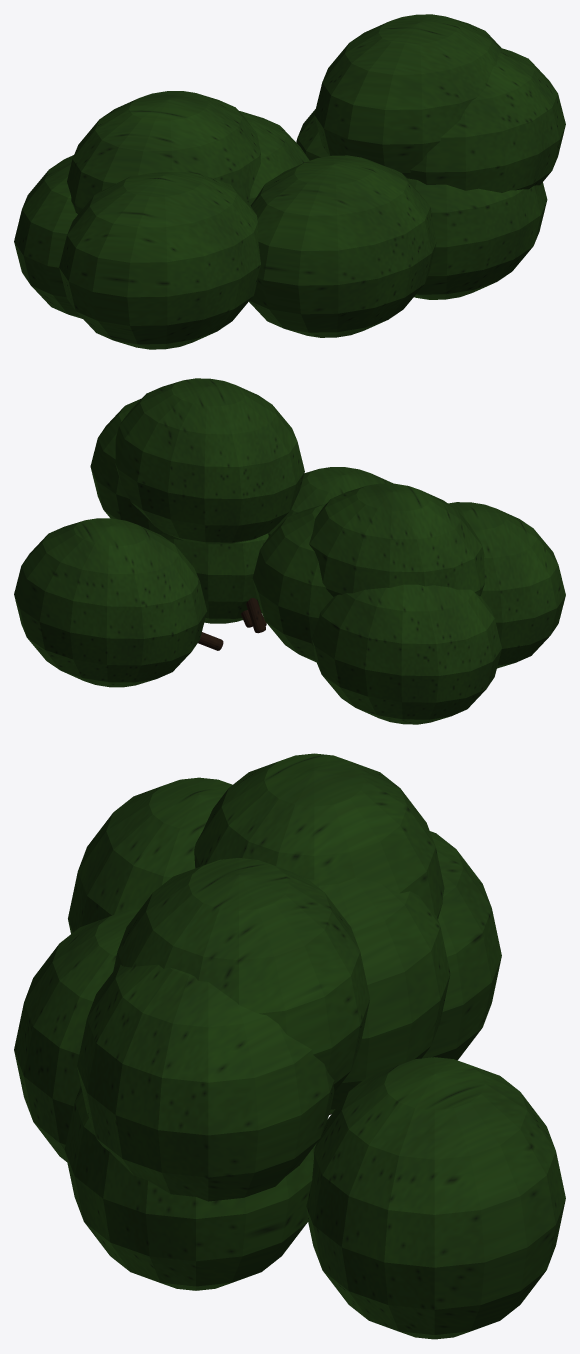
Rendered from PROP-B7292E77C7F9_lod0.glb.
3 renders of one model, top to bottom at view 1: azimuth 30°, elevation 25°; view 2: azimuth 150°, elevation 25°; view 3: azimuth 270°, elevation 25°, orthographic. The views are drawn at different scales.
Parts seen in each view (by area): view 1: foliage.005; view 2: foliage.005, plant_stem.005; view 3: foliage.005.
Boxes of the visible parts, bbox=[...] form: foliage.005: bbox=[14, 14, 565, 349]; foliage.005: bbox=[14, 378, 565, 724]; plant_stem.005: bbox=[198, 598, 266, 650]; foliage.005: bbox=[14, 753, 565, 1339].
Bounding box in the file's own units: 1.58 × 0.8421 × 1.01.
Materials: 2 (2 with a texture image).
